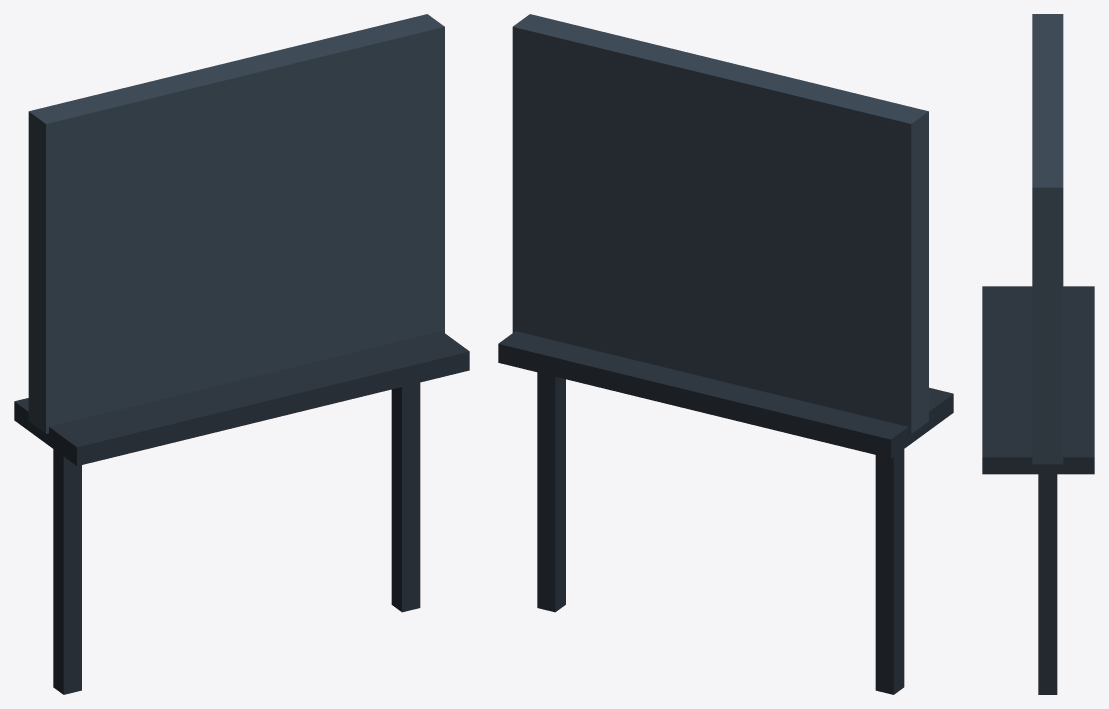
Rendered from callhost.glb.
The picture shows the model from 3 angles, left to right: view 1: azimuth 30°, elevation 25°; view 2: azimuth 150°, elevation 25°; view 3: azimuth 270°, elevation 25°; orthographic projection. The views are drawn at different scales.
Parts seen in each view (by area): view 1: merged-deviceMid, merged-deviceDark; view 2: merged-deviceMid, merged-deviceDark; view 3: merged-deviceDark, merged-deviceMid.
Boxes of the visible parts, x1,y1,x2,y2 form: merged-deviceMid: (28,14,444,433); merged-deviceDark: (14,331,469,694); merged-deviceMid: (512,14,928,433); merged-deviceDark: (498,331,953,694); merged-deviceDark: (982,286,1094,694); merged-deviceMid: (1032,14,1063,464).
Bounding box in the file's own units: 1.32 × 1.83 × 0.36.
